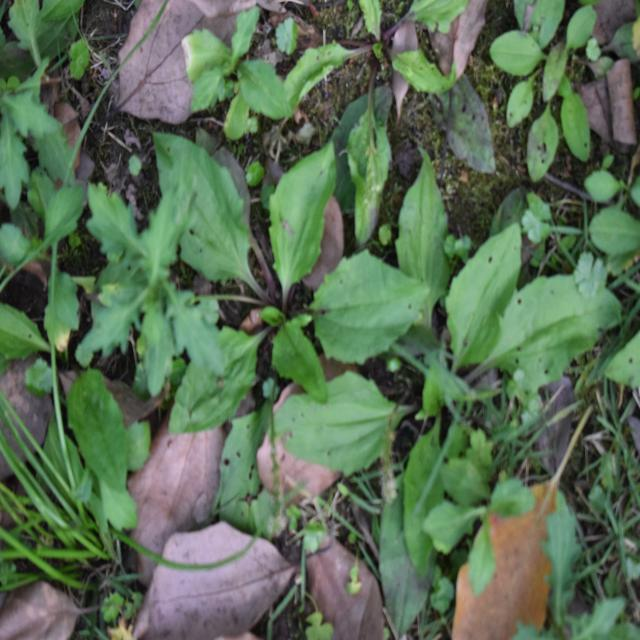plantain: (150, 180, 454, 439), (342, 229, 598, 520)
